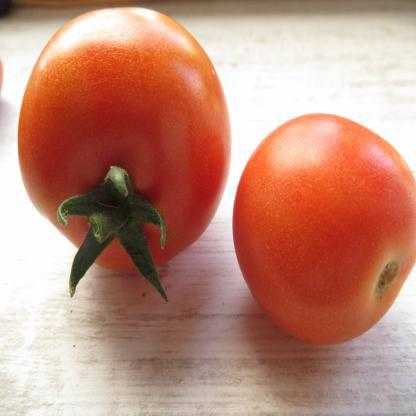tomato: (13, 6, 236, 280), (228, 106, 415, 365)
